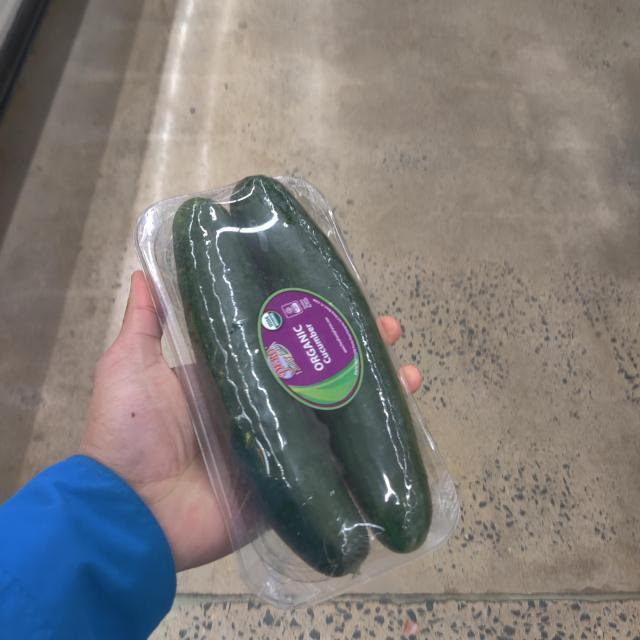Cucumber: (146, 164, 462, 606)
